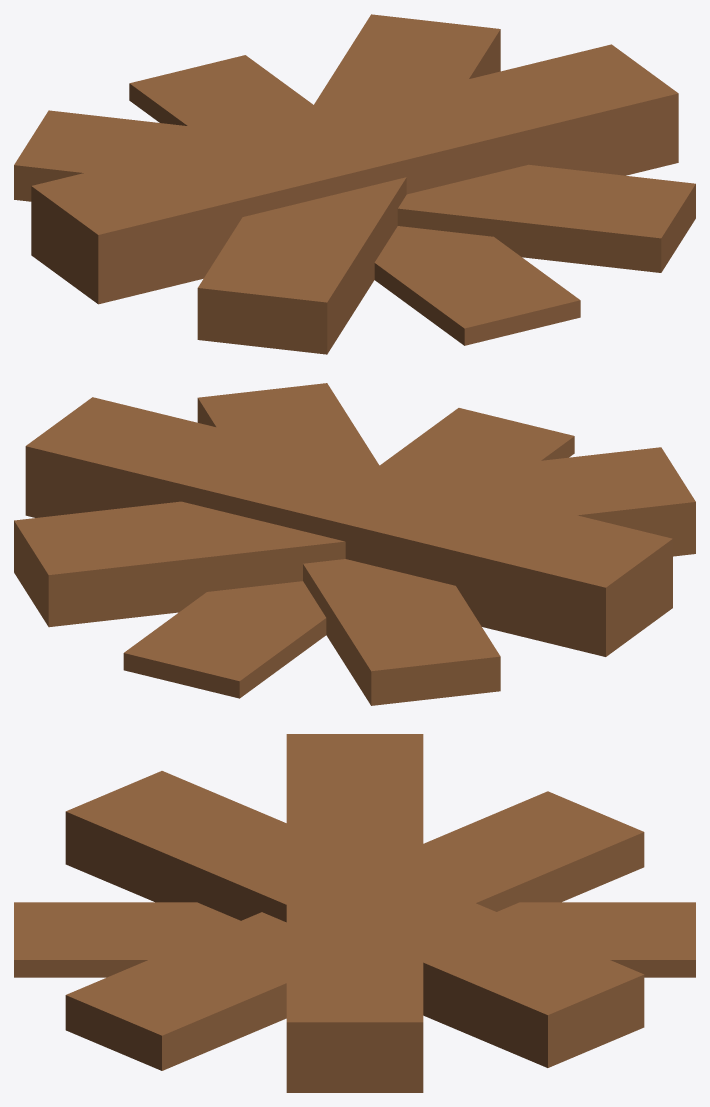
Rendered from campfire_planks.glb.
3 views of the same model, one above another, from view 1: azimuth 30°, elevation 25°; view 2: azimuth 150°, elevation 25°; view 3: azimuth 270°, elevation 25° (orthographic).
Visible parts, largest first — view 1: campfire_planks; view 2: campfire_planks; view 3: campfire_planks.
Part boxes in pixels (<box>): campfire_planks: <box>14,14,695,354</box>; campfire_planks: <box>14,383,695,705</box>; campfire_planks: <box>14,734,695,1092</box>.
Size of the model in its own units: 0.35 by 0.04 by 0.35.
